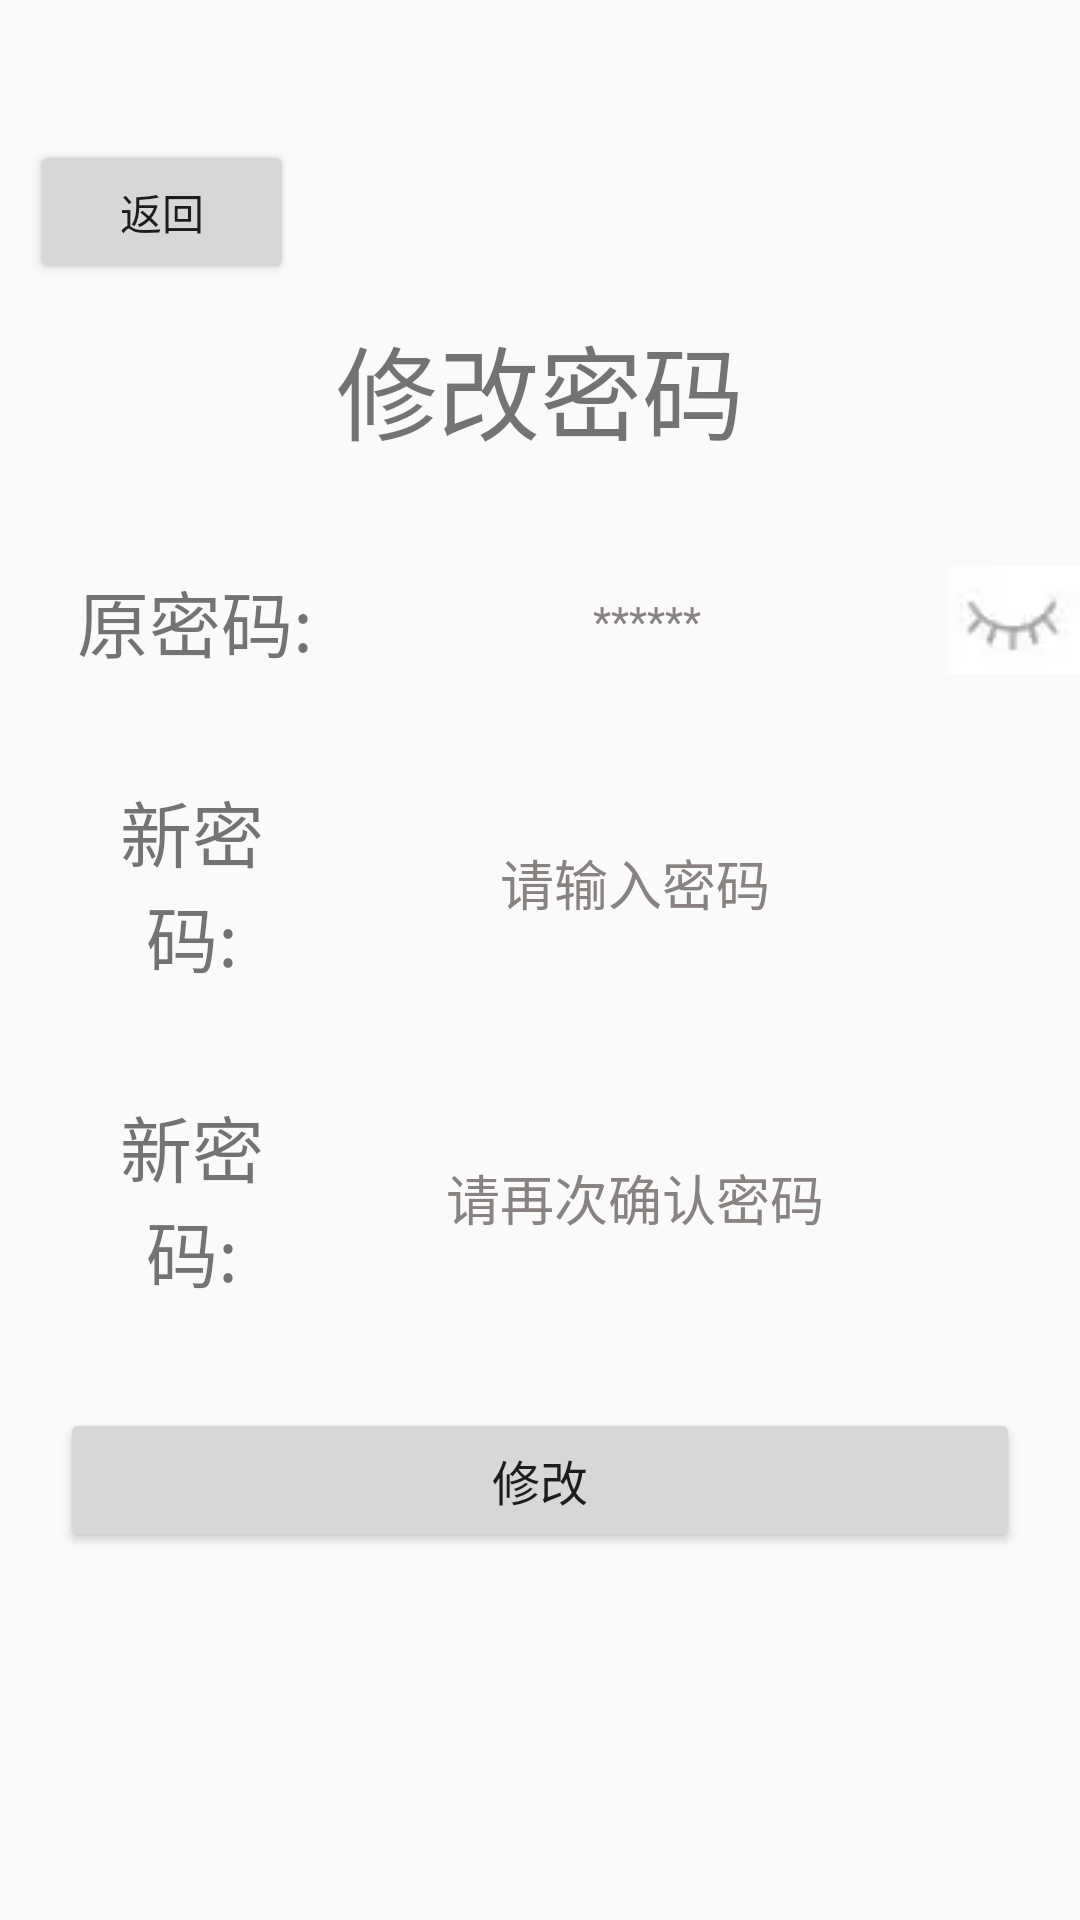

Where to tap for icons on this 1080*1920 app screen, as [x,y]:
eye: [1012,625]
